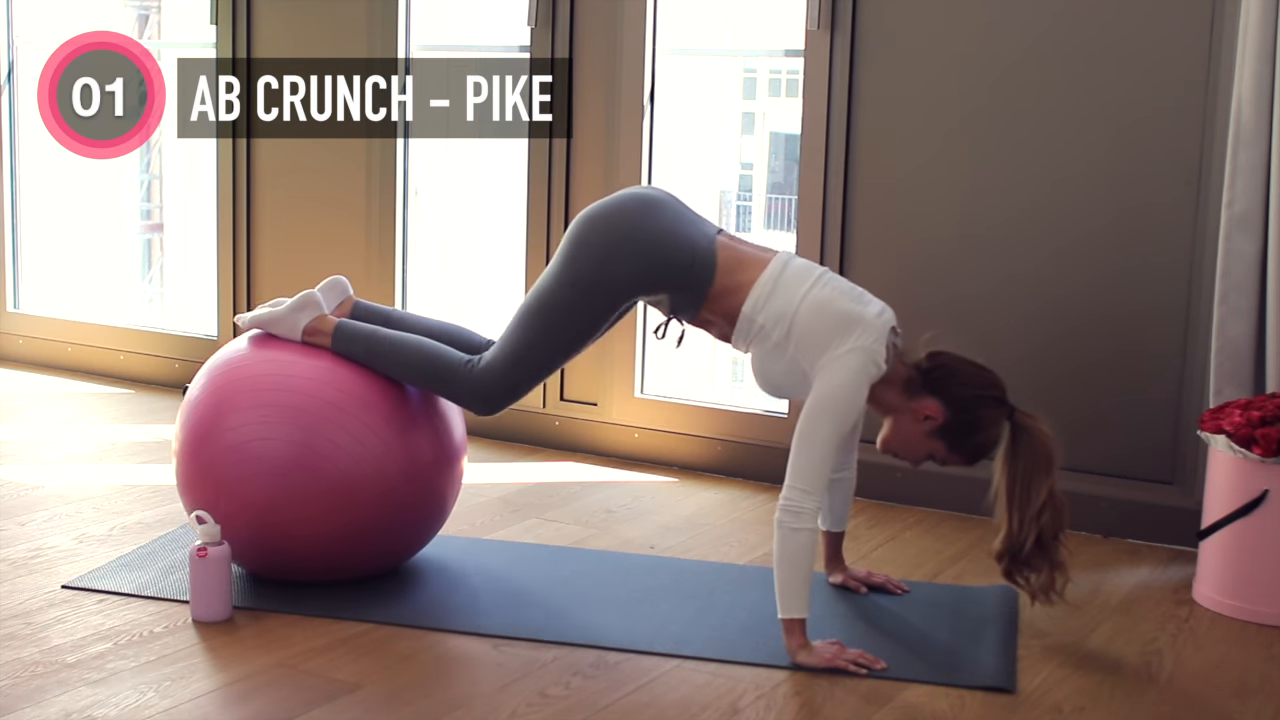yogaball: (168, 326, 477, 591)
